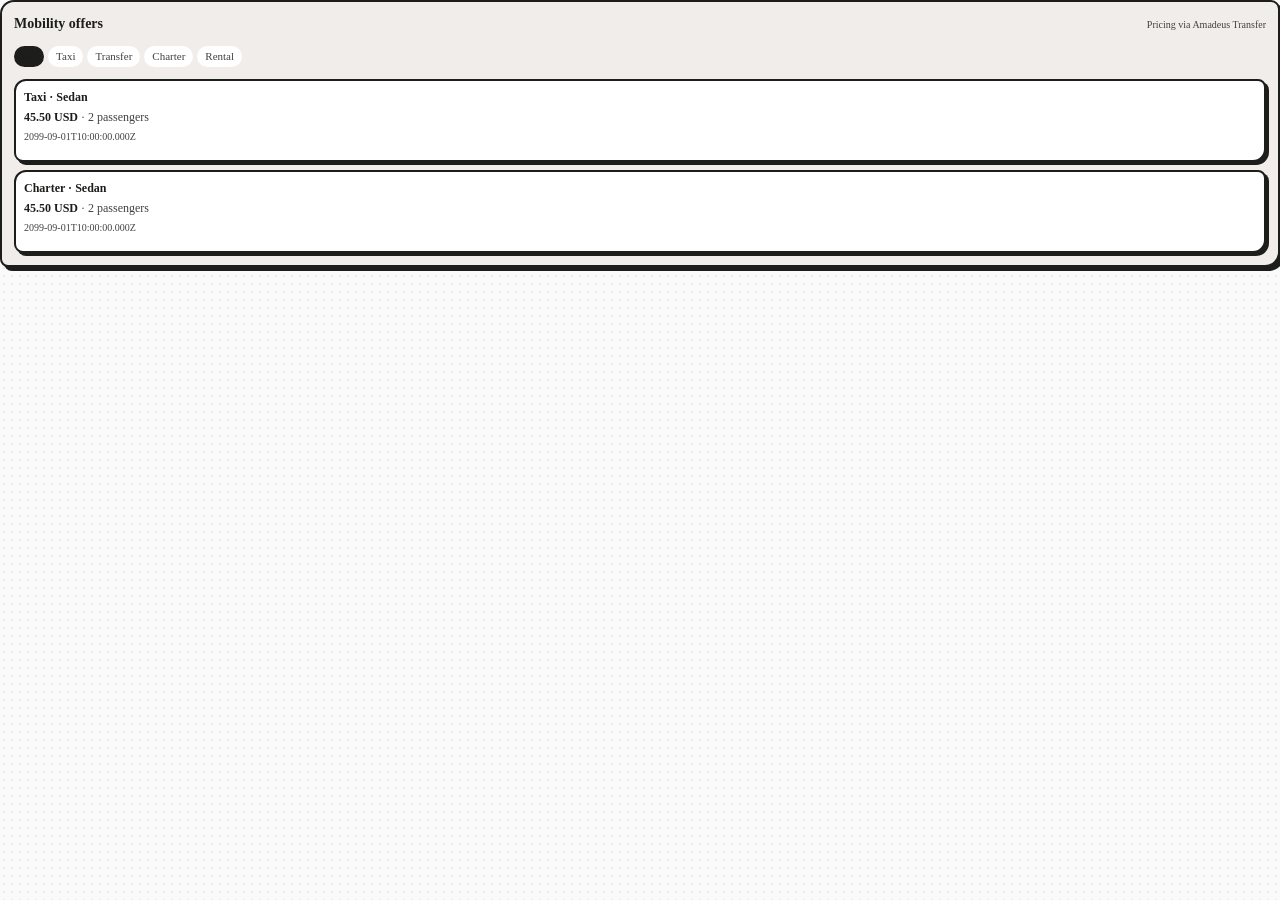
Scenario: MobilityPanel › filters by service type when the user picks a tab
This screenshot has width=1280, height=900.
Click the tab "Charter".
click(169, 56)  # box [144,46,193,66]
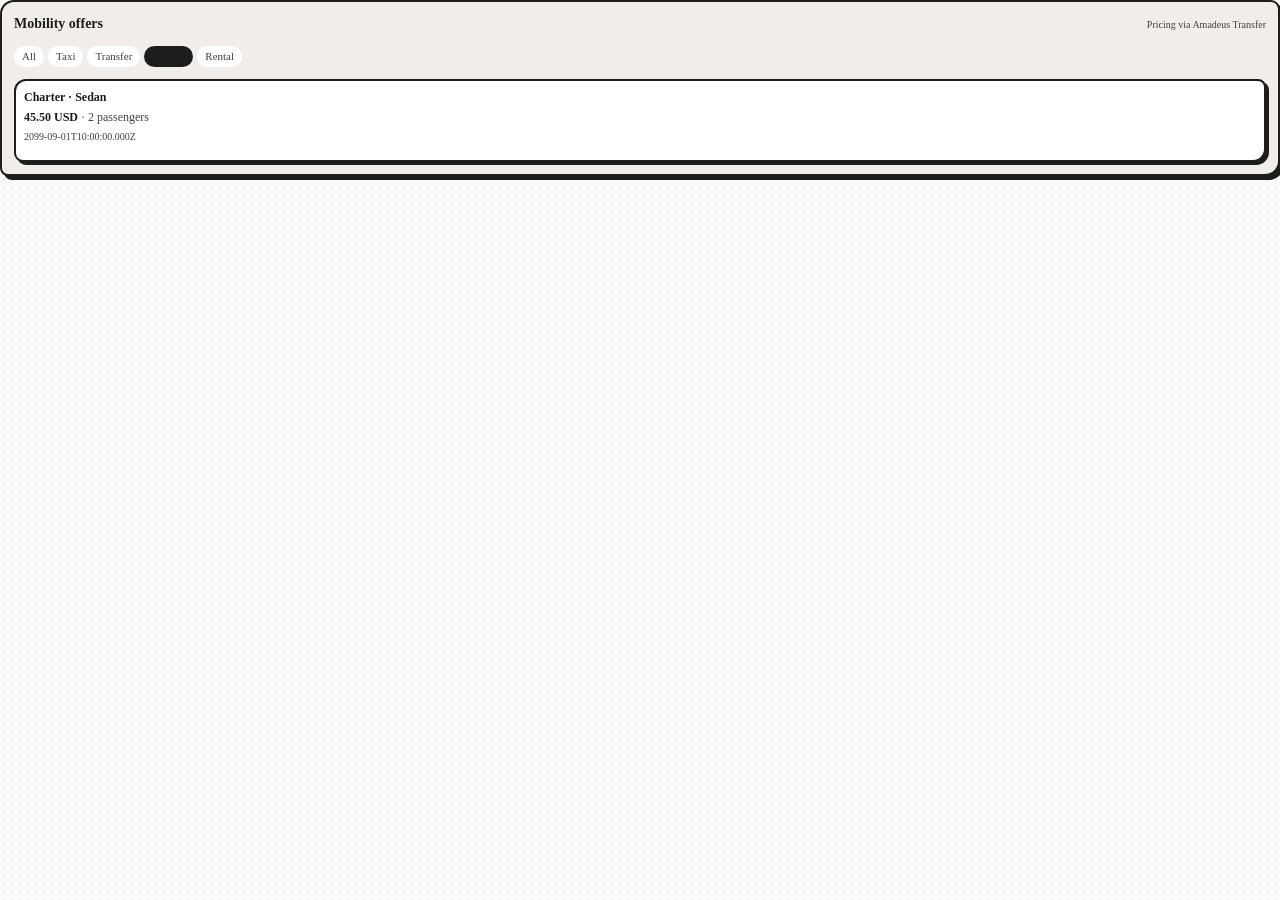
Expected: the text "Charter · Sedan" is shown, [24,88,106,104]
Expected: the text "Taxi · Sedan" is gone
